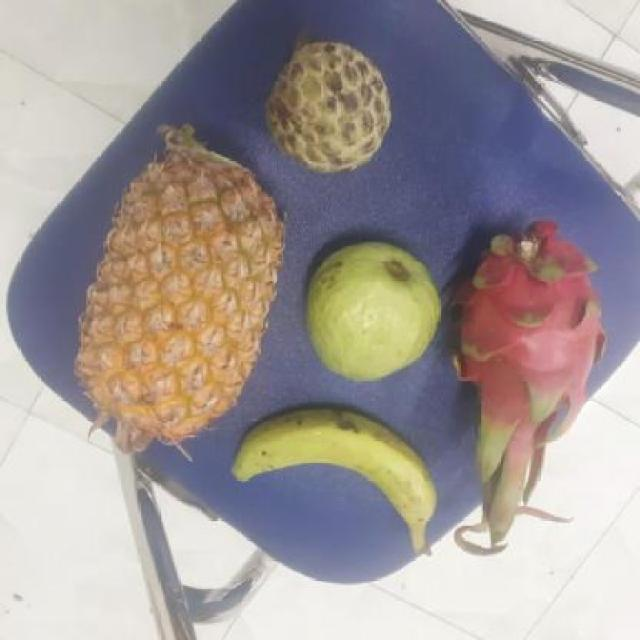banana: (230, 412, 432, 540)
dragon fruit: (442, 224, 601, 448)
guava: (298, 242, 440, 386)
pineapple: (68, 139, 278, 450)
sugar apple: (259, 41, 390, 177)
